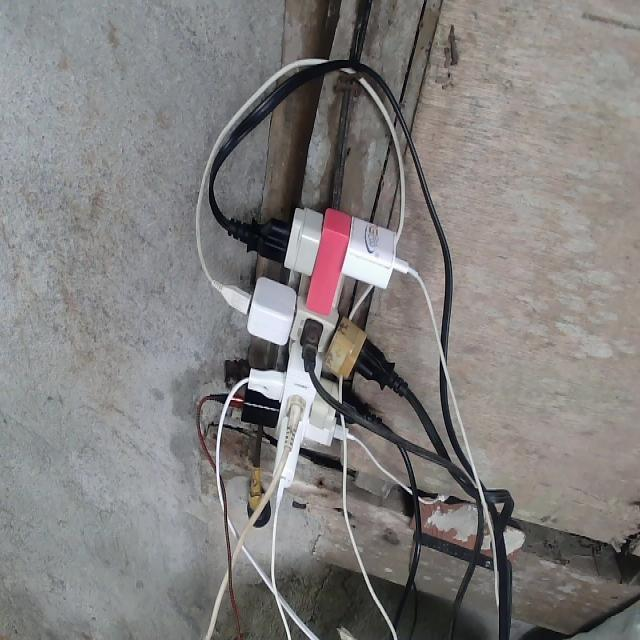-: (238, 200, 397, 488)
